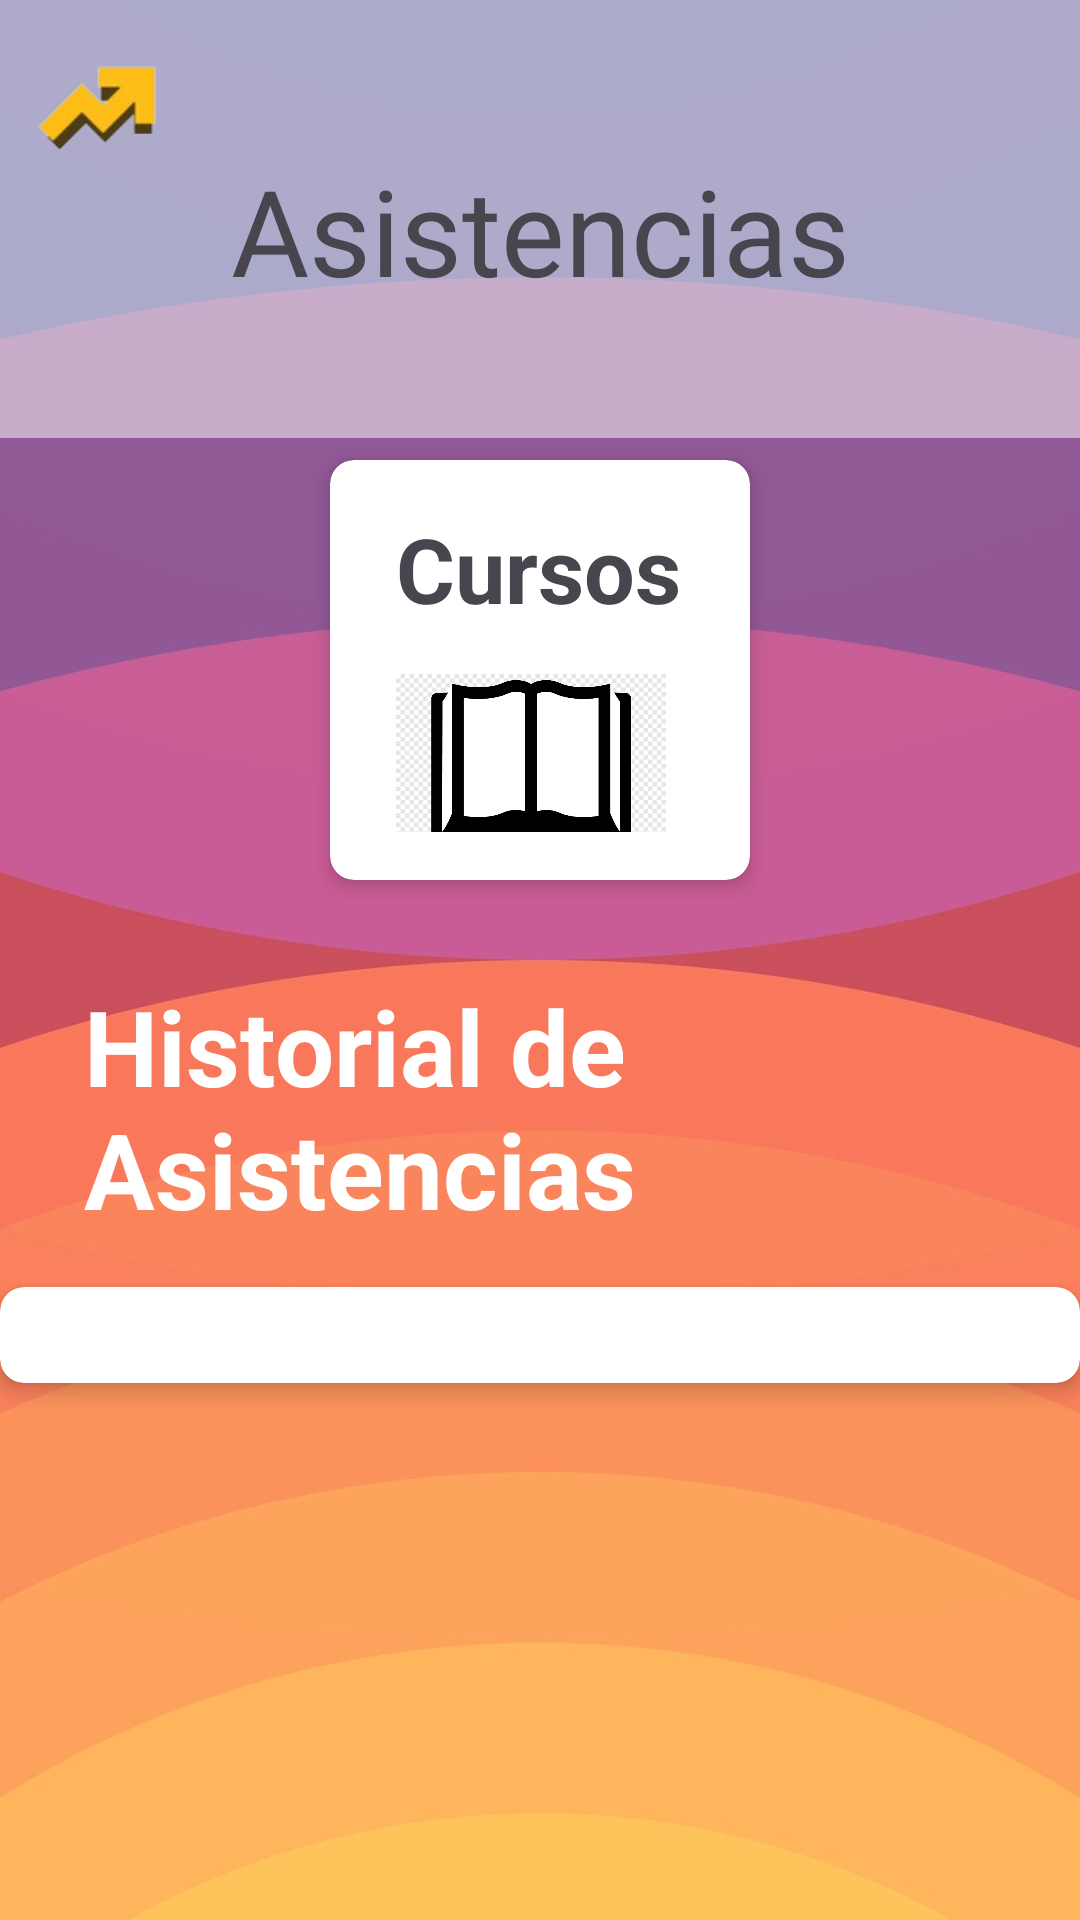

Icons on this 1080w x 1920h Android screen, each with the point to tap as [x,y]:
libro: [531,753]
